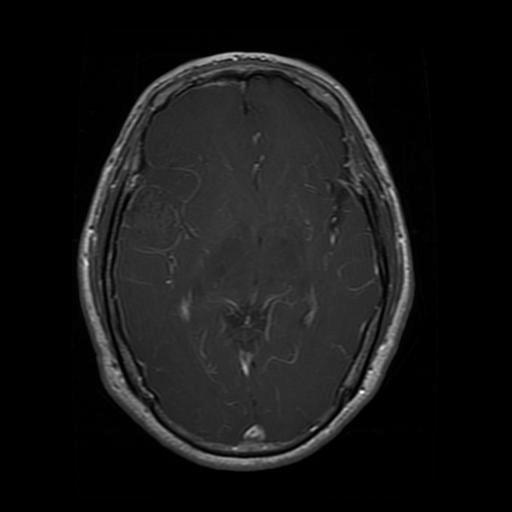Tumour-Glioma: (117, 185, 225, 247)
